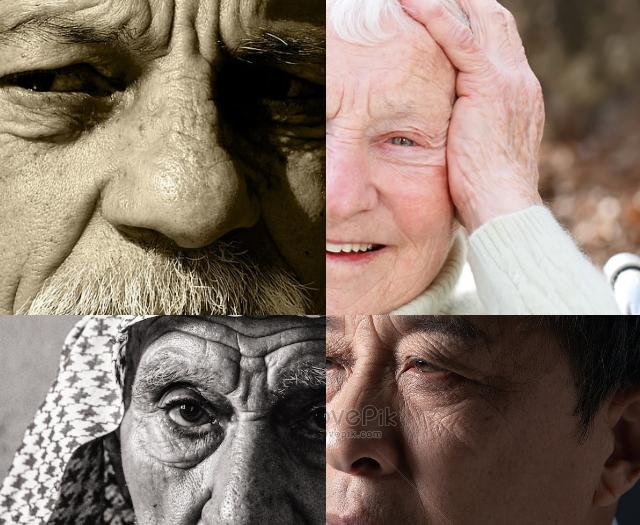bunny_line: (326, 136, 335, 158)
crows_feet: (426, 132, 439, 154)
forehead: (226, 322, 278, 358), (282, 319, 326, 350), (374, 60, 434, 82), (164, 324, 216, 342)
frown_line: (160, 0, 185, 48), (208, 0, 231, 45), (184, 16, 206, 62), (224, 359, 246, 396), (135, 0, 154, 38), (256, 358, 274, 398), (330, 88, 350, 122), (330, 123, 364, 139), (366, 315, 382, 339), (364, 92, 374, 119), (382, 315, 400, 330)
gummy_smile: (62, 189, 100, 261), (293, 499, 326, 525), (184, 500, 205, 525), (402, 224, 418, 248)
masseter: (1, 281, 30, 315)
